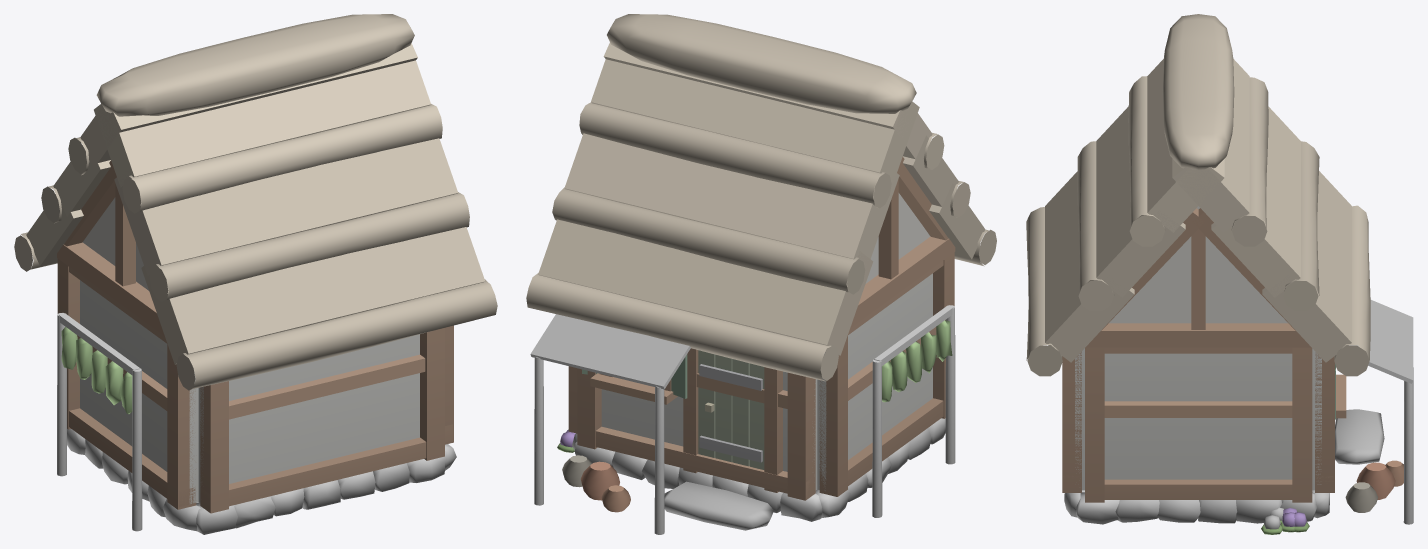
The model's file is hw_healers_hut.glb.
3 renders of one model, left to right at view 1: azimuth 30°, elevation 25°; view 2: azimuth 150°, elevation 25°; view 3: azimuth 270°, elevation 25°, orthographic. The views are drawn at different scales.
Visible parts, largest first — view 1: Building; view 2: Building; view 3: Building.
Boxes of the visible parts, x1,y1,x2,y2 form: Building: (14,14,497,534); Building: (526,14,996,534); Building: (1026,14,1413,534).
Size of the model in its own units: 2.49 by 3.07 by 2.73.
